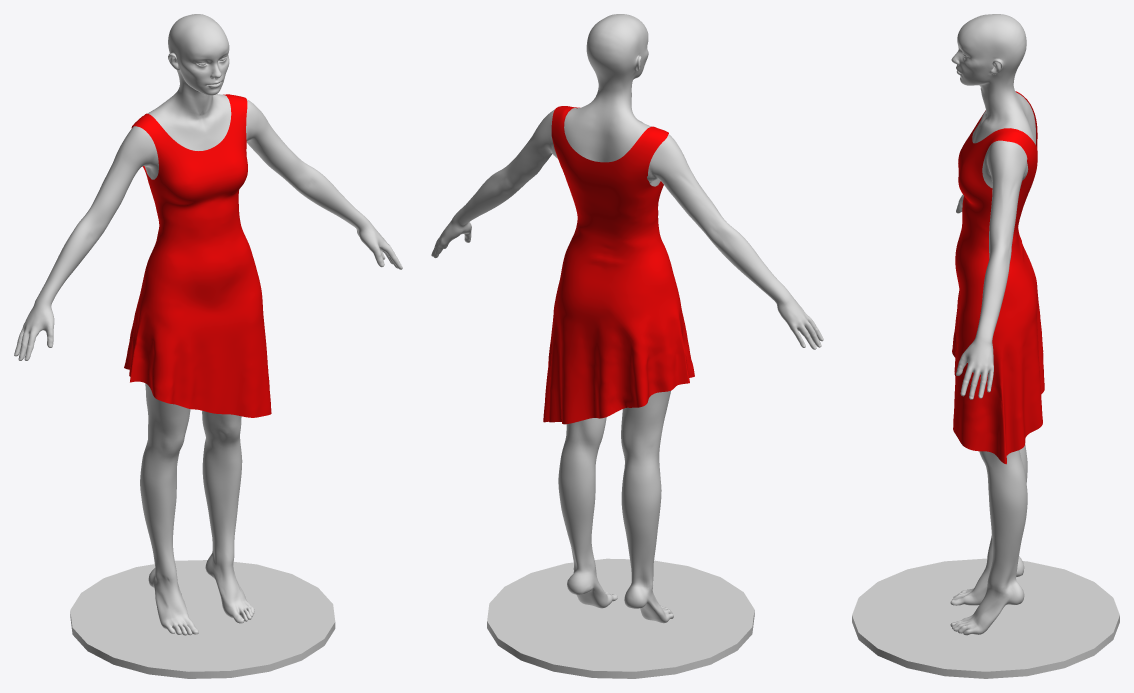
The model's file is mannequin_female.glb.
The picture shows the model from 3 angles, left to right: view 1: azimuth 30°, elevation 25°; view 2: azimuth 150°, elevation 25°; view 3: azimuth 270°, elevation 25°; orthographic projection.
Visible parts, largest first — view 1: manican, dress; view 2: manican, dress; view 3: manican, dress.
Part boxes in pixels (x1,y1,x2,y2): manican: [14, 14, 402, 678]; dress: [124, 94, 271, 417]; manican: [431, 14, 823, 678]; dress: [543, 106, 694, 424]; manican: [852, 14, 1119, 678]; dress: [952, 91, 1044, 464].
Bounding box in the file's own units: 12.22 × 18.43 × 7.39.
